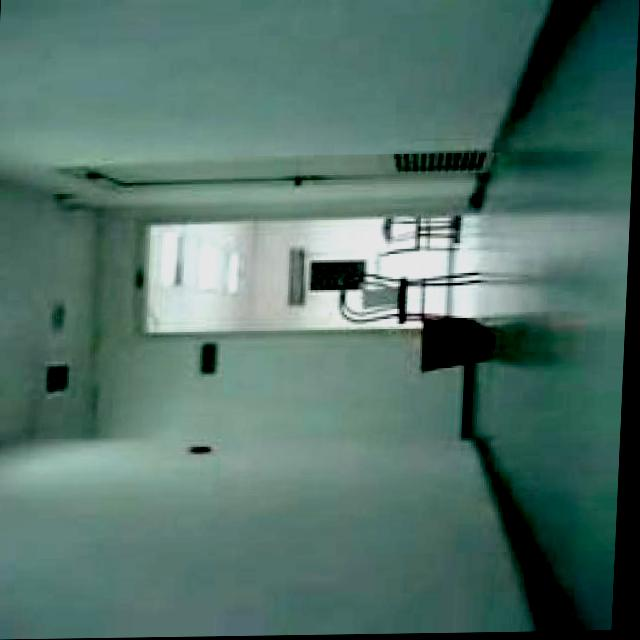Fire: (407, 317, 426, 337)
